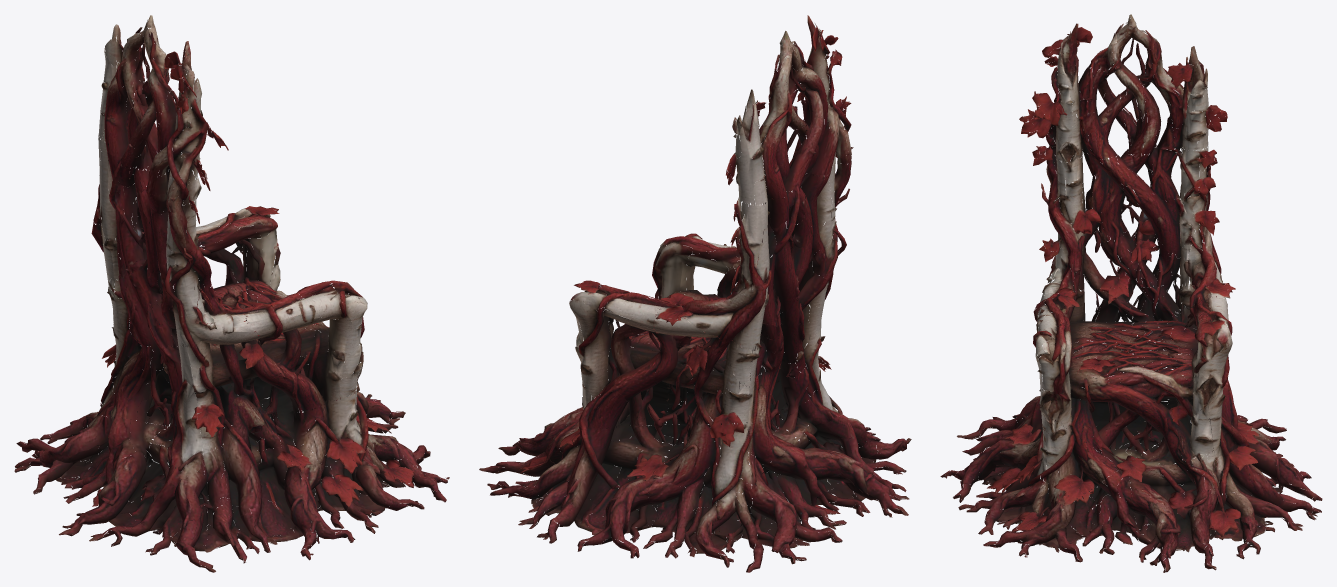
File: root-throne-tripo.glb
3 renders of one model, left to right at view 1: azimuth 30°, elevation 25°; view 2: azimuth 150°, elevation 25°; view 3: azimuth 270°, elevation 25°, orthographic. The views are drawn at different scales.
Parts seen in each view (by area): view 1: tripo_node_0e83b57b-0ed6-490b-856f-fd9129c667cf; view 2: tripo_node_0e83b57b-0ed6-490b-856f-fd9129c667cf; view 3: tripo_node_0e83b57b-0ed6-490b-856f-fd9129c667cf.
Boxes of the visible parts, x1,y1,x2,y2 form: tripo_node_0e83b57b-0ed6-490b-856f-fd9129c667cf: [14, 15, 449, 572]; tripo_node_0e83b57b-0ed6-490b-856f-fd9129c667cf: [479, 15, 911, 572]; tripo_node_0e83b57b-0ed6-490b-856f-fd9129c667cf: [940, 14, 1322, 572].
Bounding box in the file's own units: 0.8285 × 1 × 0.7864.
1 material, 1 textured.
